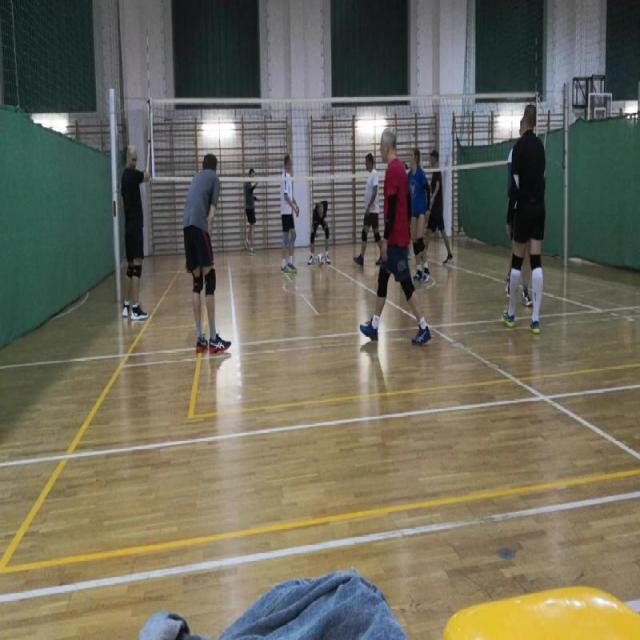volleyball: (316, 252, 324, 266)
